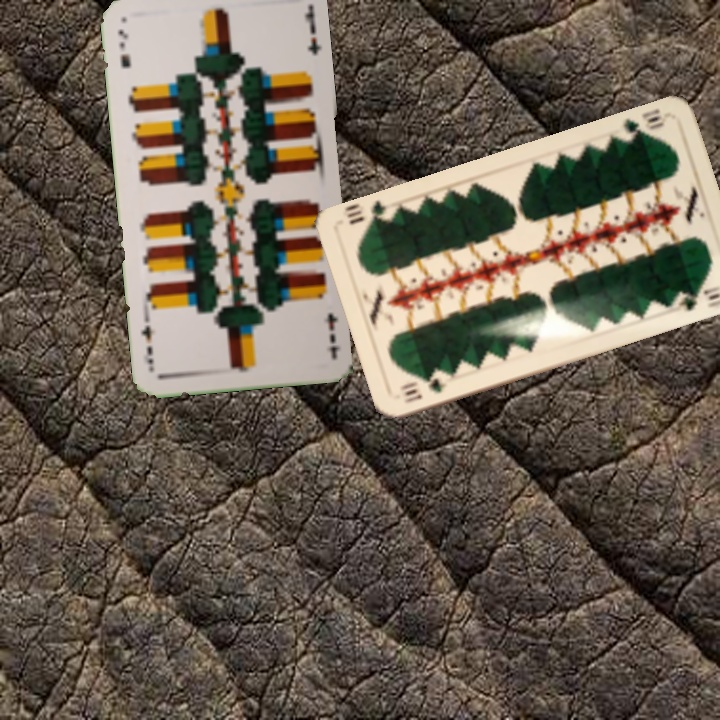E7: (114, 26, 133, 70), (320, 310, 341, 346)
G10: (616, 104, 671, 144), (397, 374, 449, 406)
